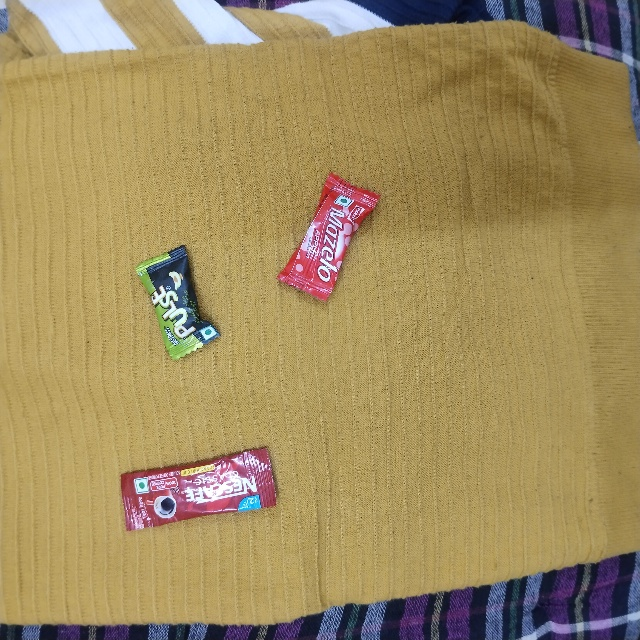Mazelo: (333, 167, 391, 292)
Nescafe Coffee: (117, 476, 272, 533)
Pulse: (133, 261, 190, 374)
